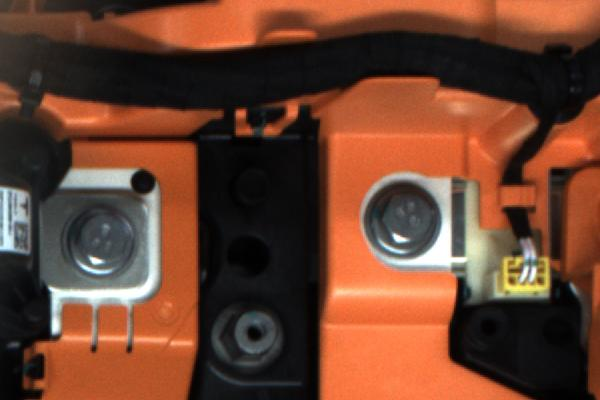nut_b: (358, 175, 445, 262), (51, 201, 137, 280)
